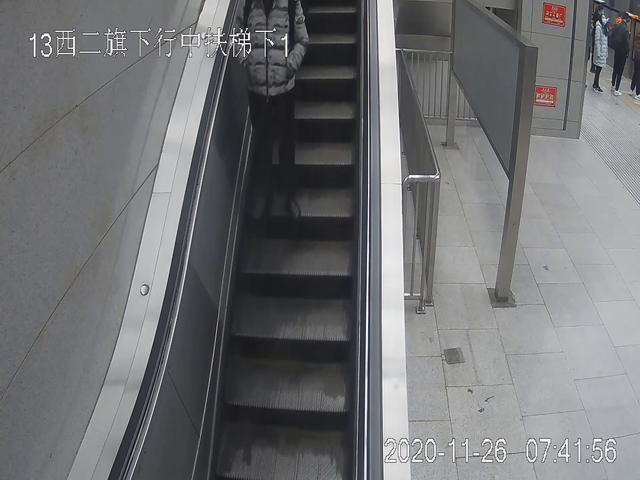person: (231, 1, 307, 220), (611, 15, 631, 96), (592, 13, 608, 91)
